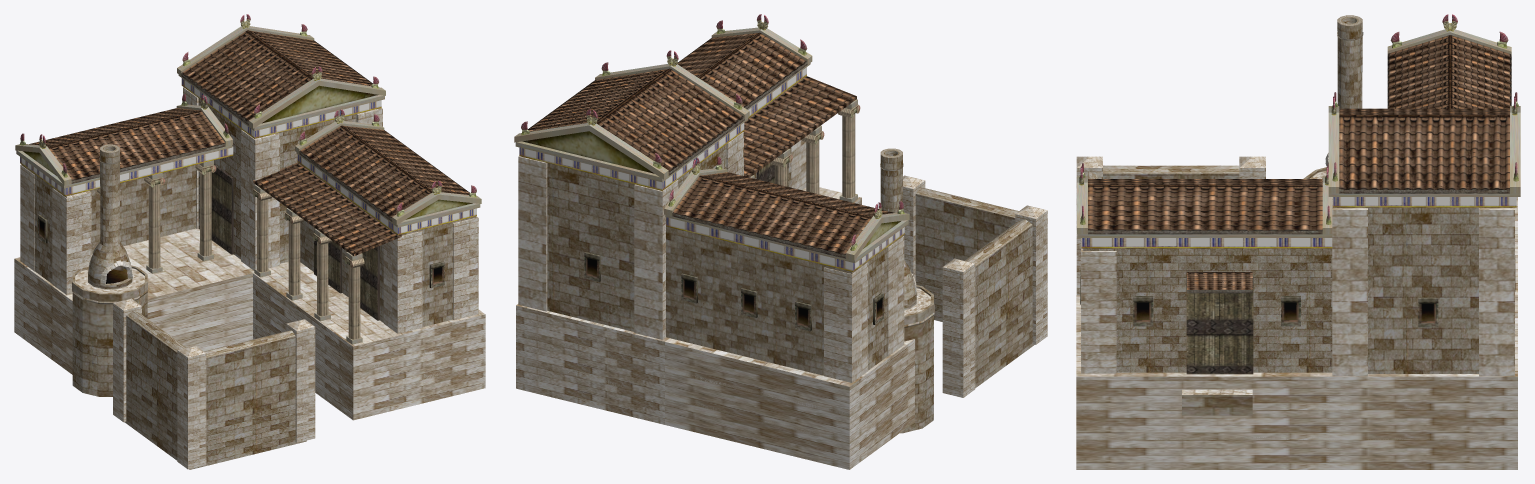
File: forge.dae
3 views of the same model, side by side, from view 1: azimuth 30°, elevation 25°; view 2: azimuth 150°, elevation 25°; view 3: azimuth 270°, elevation 25° (orthographic). The views are drawn at different scales.
Parts seen in each view (by area): view 1: forge.001; view 2: forge.001; view 3: forge.001.
Part boxes in pixels (left/top/right/bottom): forge.001: left=14, top=14, right=485, bottom=469; forge.001: left=514, top=14, right=1047, bottom=469; forge.001: left=1076, top=14, right=1520, bottom=469.
Size of the model in its own units: 19.67 by 19.42 by 16.68.
